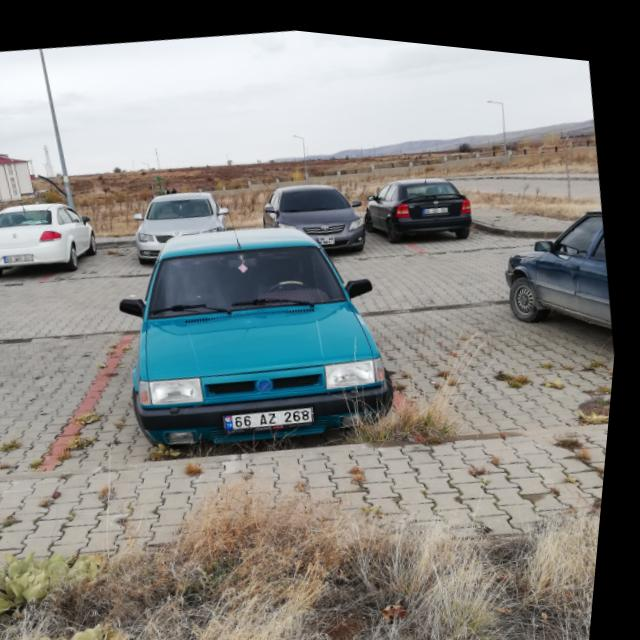license_plate: (229, 392, 322, 430), (8, 250, 38, 264), (425, 195, 451, 206), (321, 227, 339, 238)
